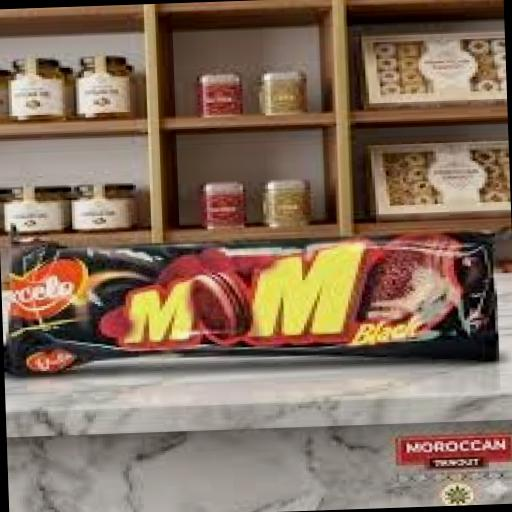MOMO: (0, 180, 512, 426)
